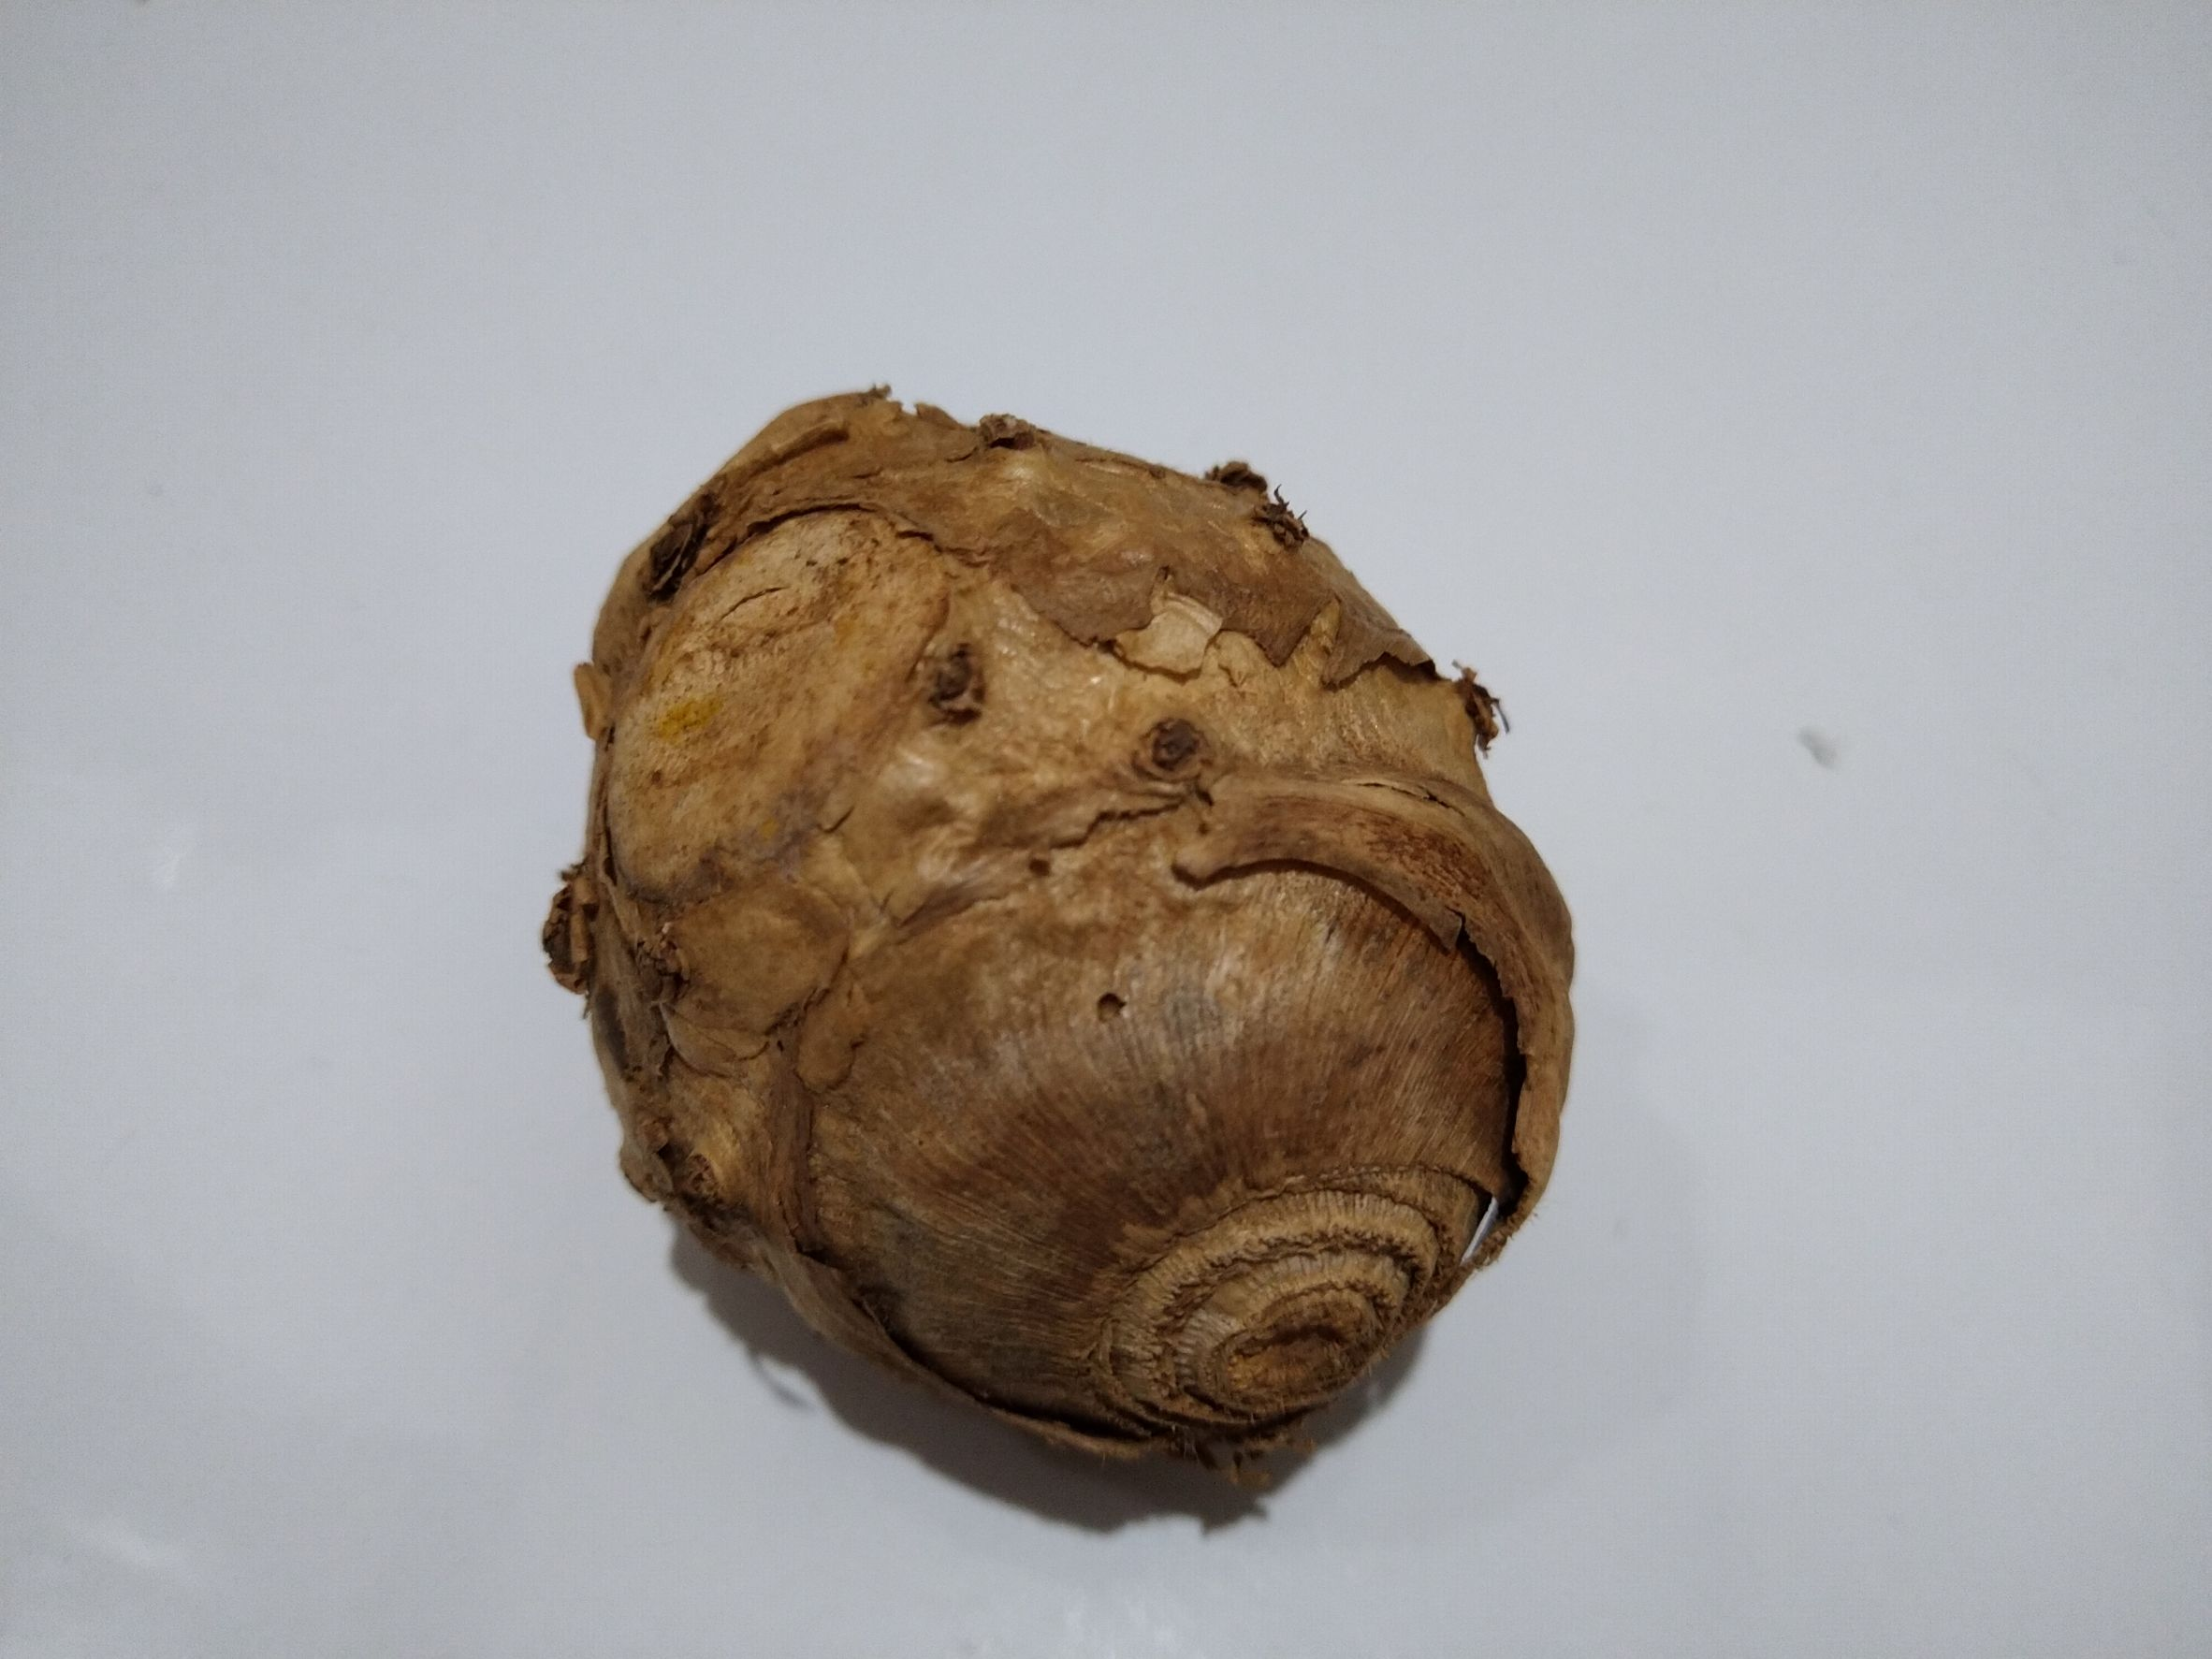Temulawak: (561, 383, 1575, 1492)
